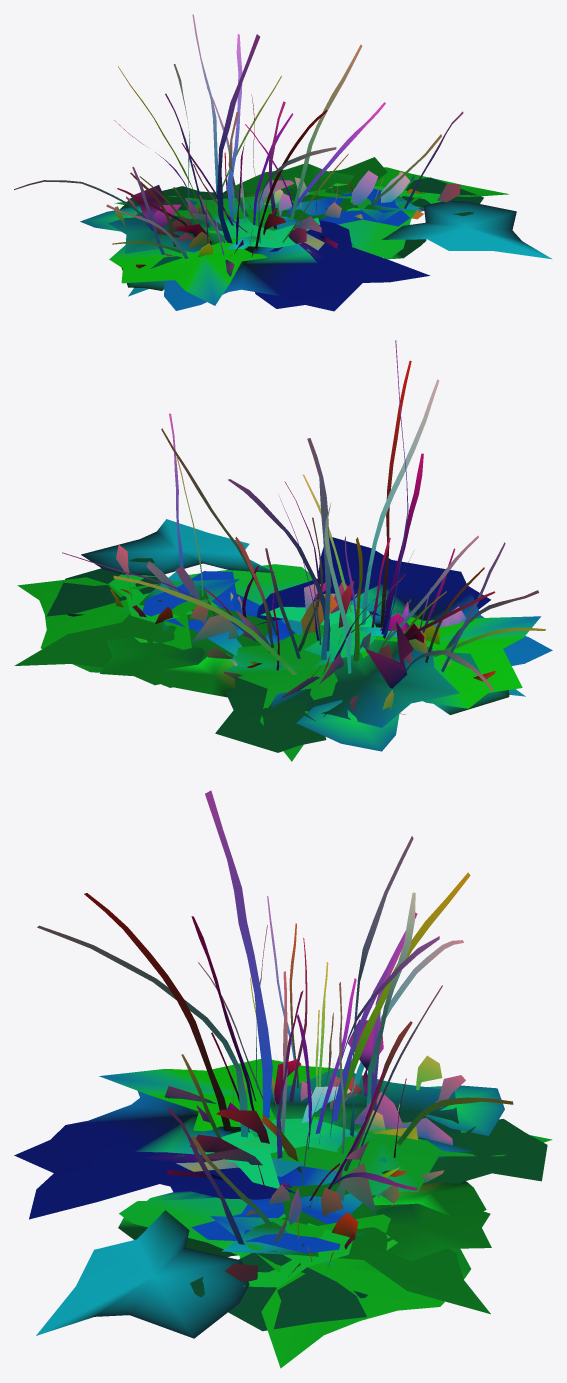
The model's file is Wild_Grass_vdilbaiia_Mid_vdilbaiia_VarD_LOD0.fbx.
3 views of the same model, one above another, from view 1: azimuth 30°, elevation 25°; view 2: azimuth 150°, elevation 25°; view 3: azimuth 270°, elevation 25° (orthographic). The views are drawn at different scales.
Parts seen in each view (by area): view 1: _91v4_VarD_LOD1; view 2: _91v4_VarD_LOD1; view 3: _91v4_VarD_LOD1.
Boxes of the visible parts, x1,y1,x2,y2 form: _91v4_VarD_LOD1: (14,14,552,311); _91v4_VarD_LOD1: (14,340,552,761); _91v4_VarD_LOD1: (14,790,552,1368).
Bounding box in the file's own units: 93.9 × 50.84 × 65.83.
